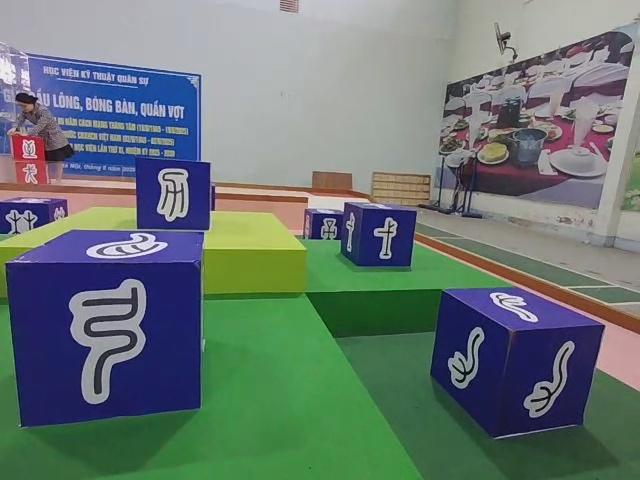R2 Fake Blue: (4, 231, 205, 425), (134, 160, 213, 236)
R2 Real Blue: (431, 286, 603, 443), (340, 201, 417, 269), (0, 197, 67, 235), (305, 207, 347, 240)
